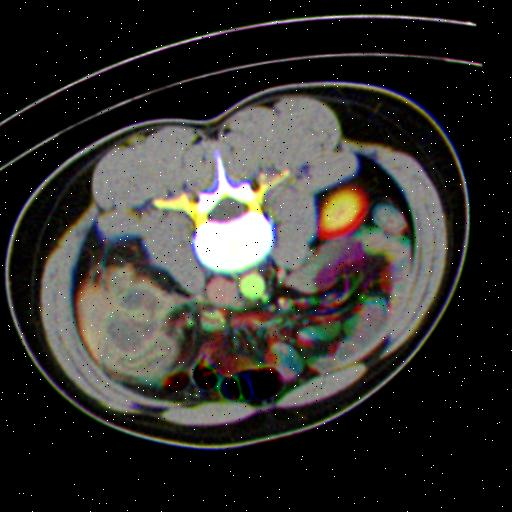Abscess: (100, 271, 177, 376)
